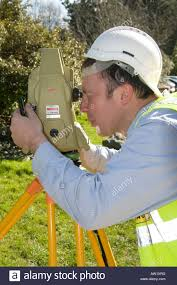Person_wearing_helmet: (67, 23, 163, 109)
